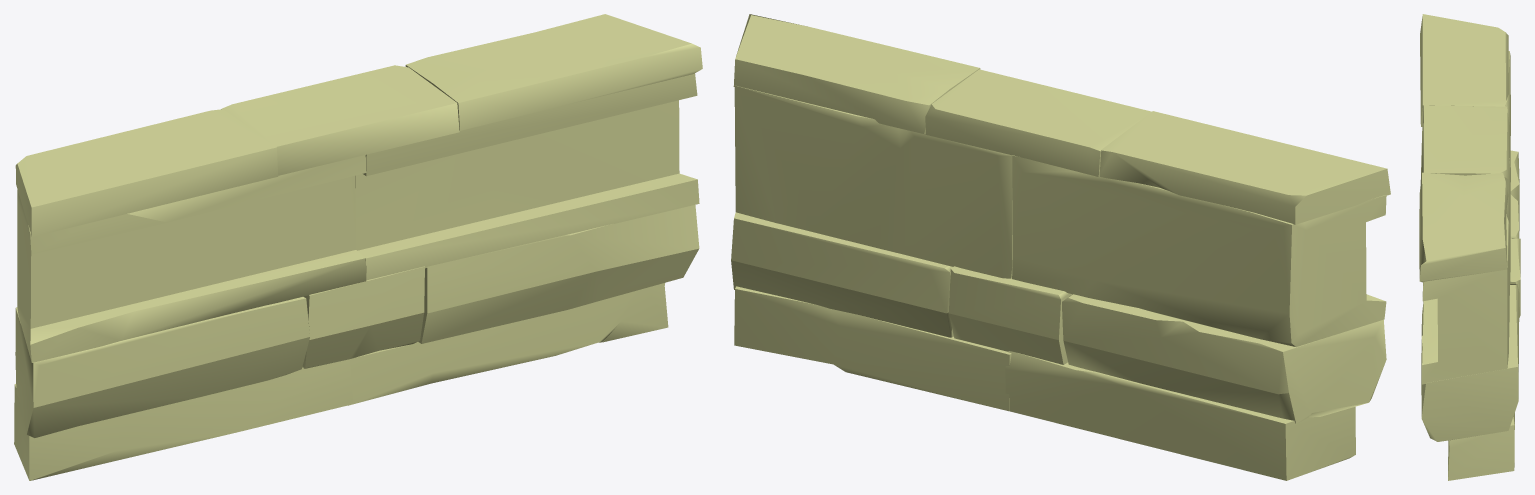
Rendered from Bariere_short_07.fbx.
3 renders of one model, left to right at view 1: azimuth 30°, elevation 25°; view 2: azimuth 150°, elevation 25°; view 3: azimuth 270°, elevation 25°, orthographic. The views are drawn at different scales.
Visible parts, largest first — view 1: Bariere_short_07_LOD1; view 2: Bariere_short_07_LOD1; view 3: Bariere_short_07_LOD1.
Boxes of the visible parts, box(x1,y1,x2,y2) form: Bariere_short_07_LOD1: box(14, 14, 702, 480); Bariere_short_07_LOD1: box(731, 14, 1390, 480); Bariere_short_07_LOD1: box(1419, 14, 1520, 480).
Bounding box in the file's own units: 354 × 148 × 60.66.
